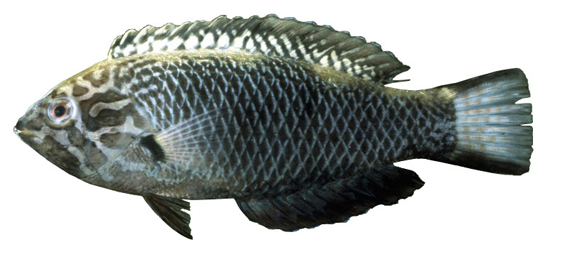fish: (13, 14, 534, 241)
